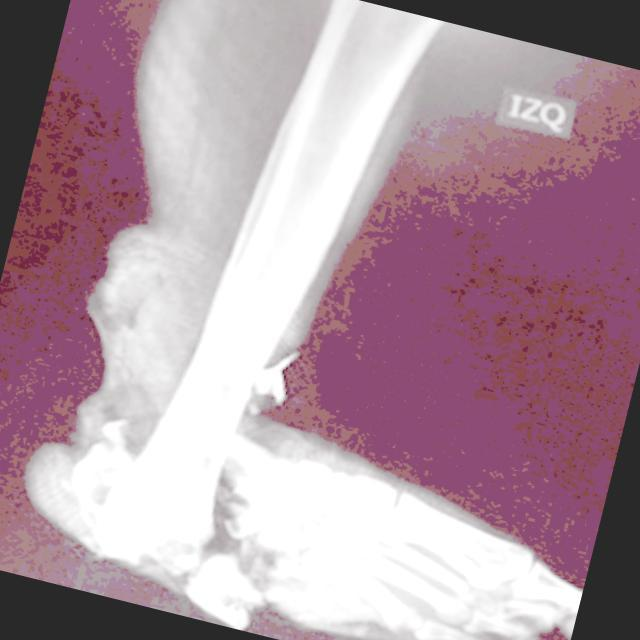Comminuted Fracture: (81, 397, 278, 632)
